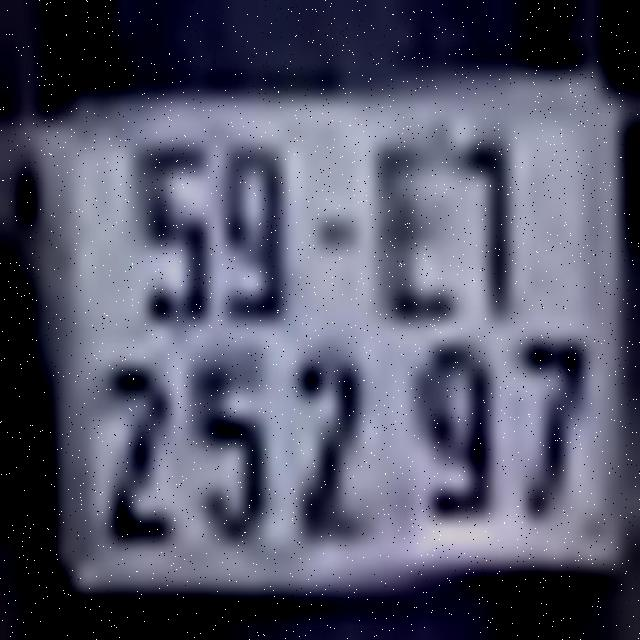1: (460, 127, 520, 321)
2: (293, 342, 376, 544), (100, 360, 176, 544)
5: (190, 346, 271, 542), (134, 139, 213, 328)
7: (513, 332, 590, 529)
9: (412, 334, 498, 523), (221, 137, 288, 324)
E: (372, 135, 459, 324)
